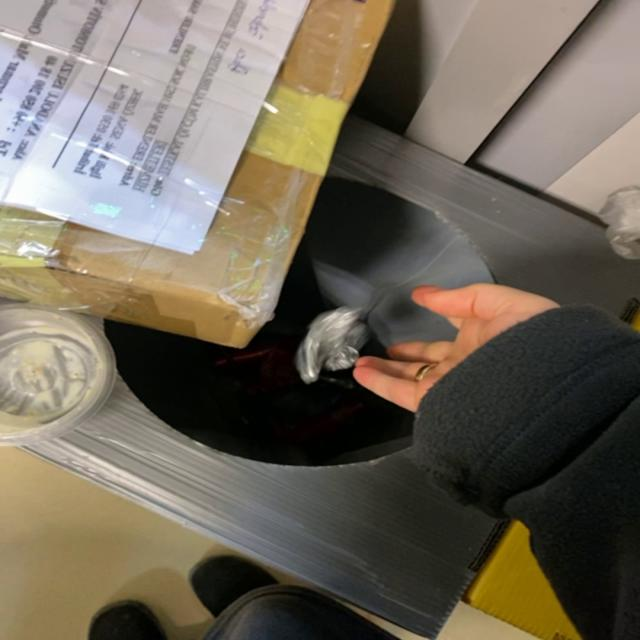bin: (25, 117, 639, 639)
metal: (296, 306, 369, 384)
